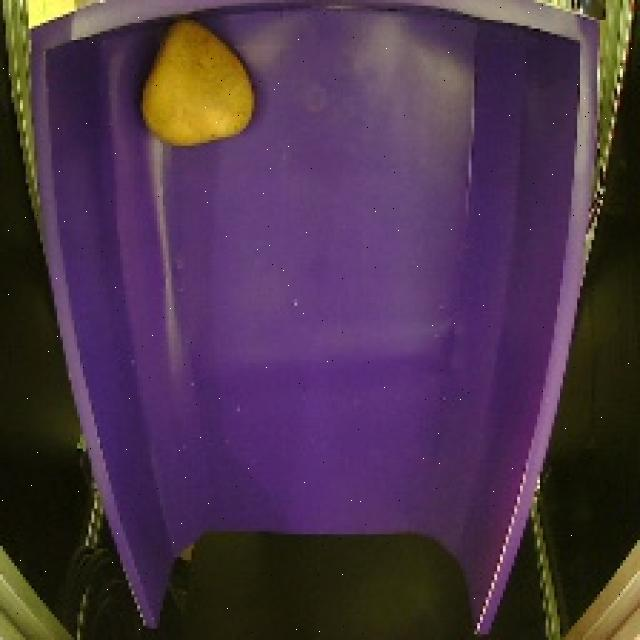cobbles: (128, 11, 265, 166)
